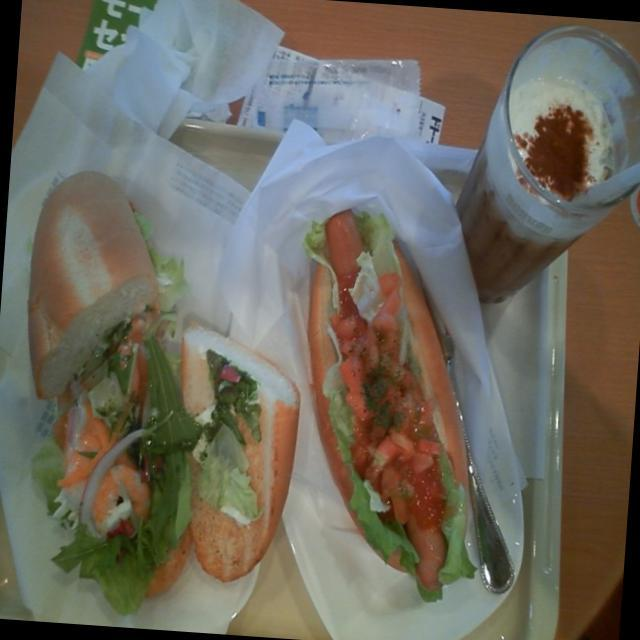Hot Dog: (265, 185, 513, 602)
